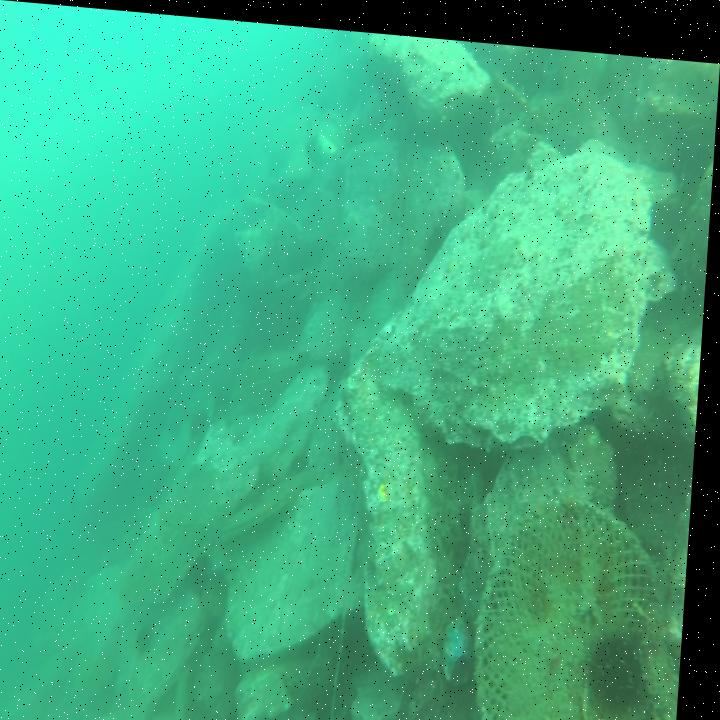echinus: (594, 607, 656, 712), (421, 207, 454, 257), (194, 409, 216, 445), (142, 626, 163, 655)
